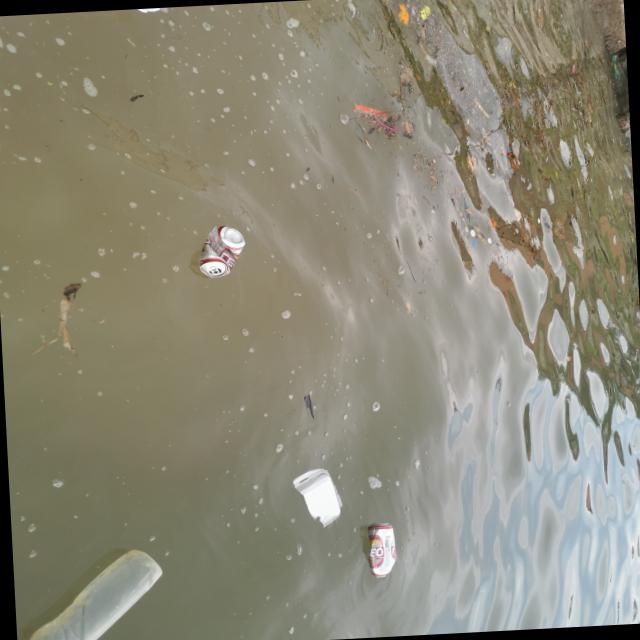can: (195, 227, 250, 280), (365, 522, 400, 578)
foam: (292, 467, 342, 529), (86, 8, 162, 18)
plastic: (21, 545, 172, 640)
plastic bottle: (352, 102, 388, 122)
